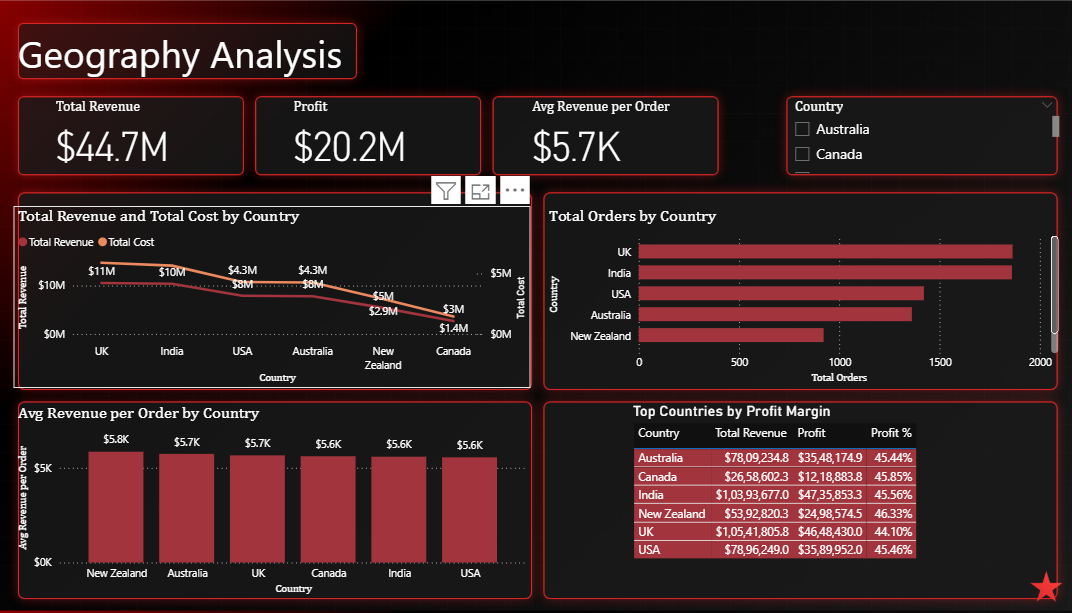

Layout of this report page (visuals, bound fields, positions):
{"tool":"powerbi","page":{"name":"Geography Analysis","canvas":[1280,720],"ordinal":3},"visuals":[{"type":"image","box":[16,0,1264,720],"z":0},{"type":"textbox","box":[48,32,400,80],"z":1000},{"type":"lineChart","title":"Total Revenue and Total Cost by Country","fields":{"Y":["All Mesaures.Total Revenue"],"Category":["locations.Geo"],"Y2":["All Mesaures.Total Cost"]},"box":[48,240,592,208],"z":2000},{"type":"barChart","title":"Total Orders by Country","fields":{"Y":["All Mesaures.Total Orders"],"Category":["locations.Geo"]},"box":[656,240,592,208],"z":3000},{"type":"clusteredColumnChart","title":"Avg Revenue per Order by Country","fields":{"Y":["All Mesaures.Avg Revenue per Order"],"Category":["locations.Geo"]},"box":[48,464,592,224],"z":4000},{"type":"tableEx","title":"Top Countries by Profit Margin","fields":{"Values":["locations.Geo","All Mesaures.Total Revenue","All Mesaures.Profit","All Mesaures.Profit %"]},"box":[752,464,416,224],"z":5000},{"type":"cardVisual","fields":{"Data":["All Mesaures.Total Revenue"]},"box":[80,112,208,96],"z":6000},{"type":"cardVisual","fields":{"Data":["All Mesaures.Profit"]},"box":[352,112,208,96],"z":7000},{"type":"cardVisual","fields":{"Data":["All Mesaures.Avg Revenue per Order"]},"box":[624,112,208,96],"z":8000},{"type":"slicer","fields":{"Values":["locations.Geo"]},"box":[928,112,320,96],"z":9000}]}

Visuals, with their boxes in screenshot pixels (x1, y1, x2, y2), scaled from the page's 1280x720 canvas onto the 1072x613 screenshot:
image: bbox(13, 0, 1071, 612)
textbox: bbox(40, 27, 375, 95)
"Total Revenue and Total Cost by Country" lineChart: bbox(40, 204, 536, 381)
"Total Orders by Country" barChart: bbox(549, 204, 1045, 381)
"Avg Revenue per Order by Country" clusteredColumnChart: bbox(40, 395, 536, 586)
"Top Countries by Profit Margin" tableEx: bbox(630, 395, 978, 586)
cardVisual - All Mesaures.Total Revenue: bbox(67, 95, 241, 177)
cardVisual - All Mesaures.Profit: bbox(295, 95, 469, 177)
cardVisual - All Mesaures.Avg Revenue per Order: bbox(523, 95, 697, 177)
slicer - locations.Geo: bbox(777, 95, 1045, 177)
